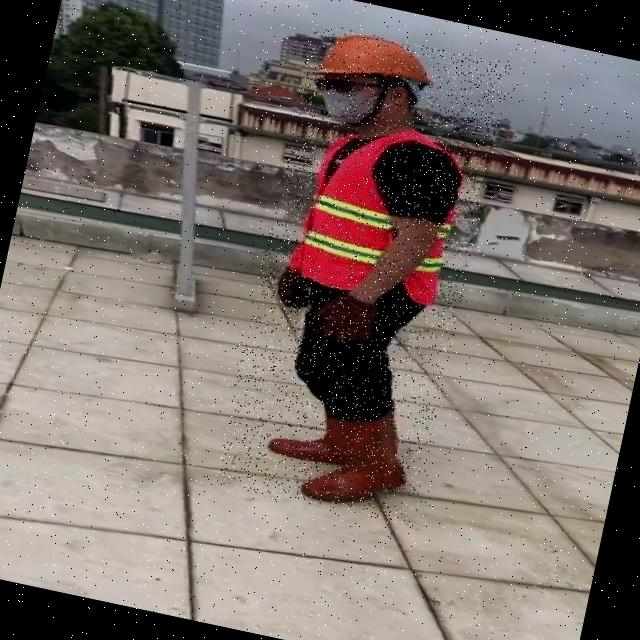boots: (300, 407, 418, 518), (265, 428, 317, 459)
helmet: (312, 23, 437, 94)
vest: (289, 119, 474, 309)
